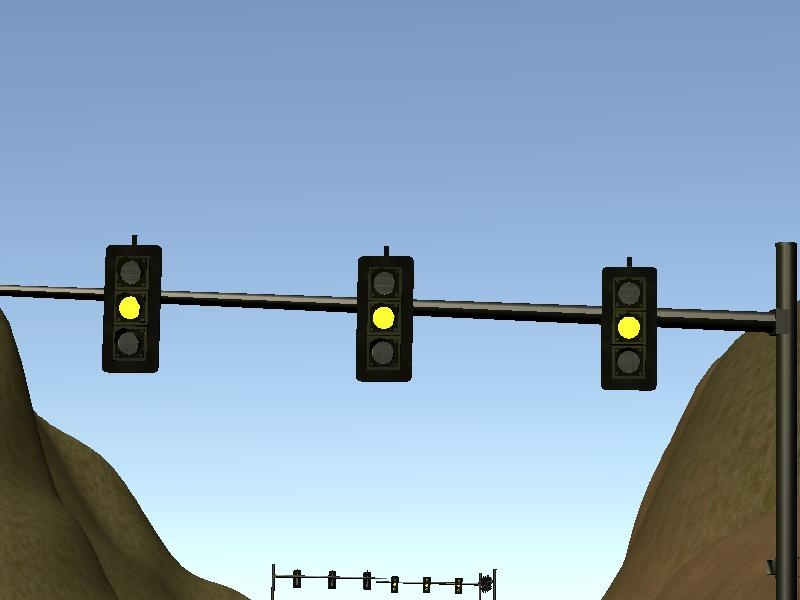YELLOW: (599, 259, 665, 391), (348, 252, 414, 384), (95, 241, 161, 373)
